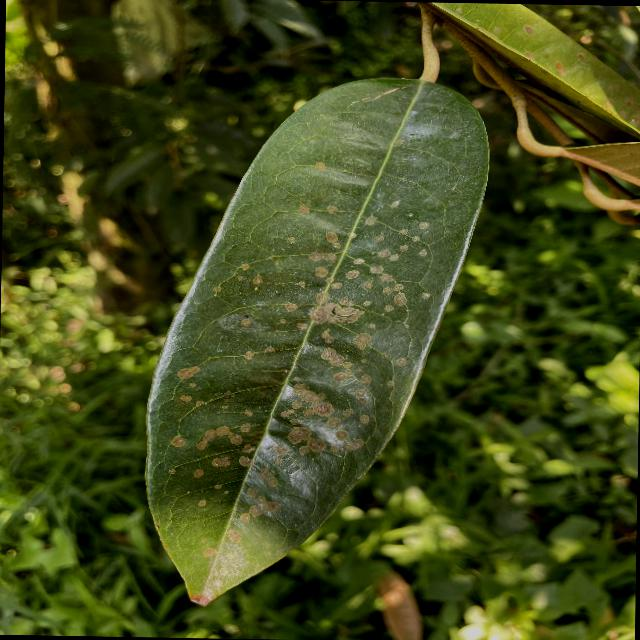Algal Leaf Spot: (126, 58, 502, 615)
